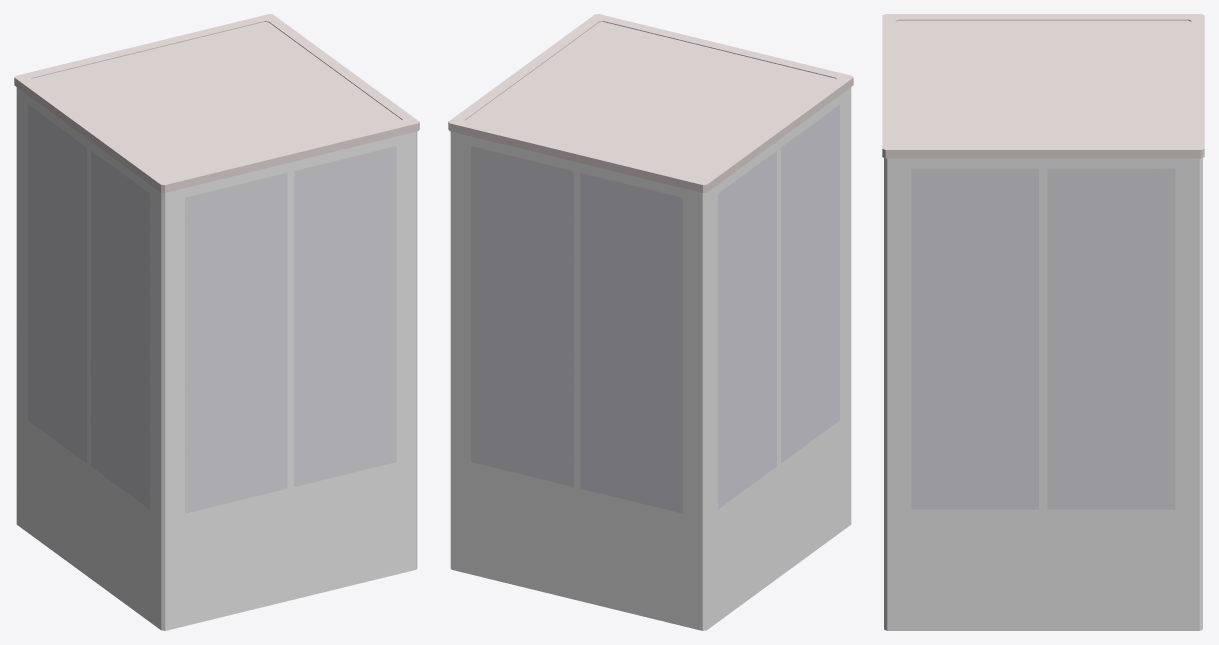
The model's file is B_Building.fbx.
The picture shows the model from 3 angles, left to right: view 1: azimuth 30°, elevation 25°; view 2: azimuth 150°, elevation 25°; view 3: azimuth 270°, elevation 25°; orthographic projection. The views are drawn at different scales.
Visible parts, largest first — view 1: polySurface3, polySurface6, polySurface7, polySurface2, polySurface4, polySurface1, polySurface5; view 2: polySurface3, polySurface6, polySurface7, polySurface2, polySurface4, polySurface1, polySurface5; view 3: polySurface2, polySurface4, polySurface5, polySurface3, polySurface6.
Part boxes in pixels (<box>): polySurface3: <box>14,44,350,327</box>; polySurface6: <box>16,222,417,517</box>; polySurface7: <box>16,315,233,587</box>; polySurface2: <box>234,335,417,599</box>; polySurface4: <box>147,14,419,228</box>; polySurface1: <box>16,482,294,630</box>; polySurface5: <box>351,193,417,317</box>; polySurface3: <box>517,44,853,327</box>; polySurface6: <box>450,222,851,517</box>; polySurface7: <box>634,315,851,587</box>; polySurface2: <box>450,335,633,599</box>; polySurface4: <box>448,14,720,228</box>; polySurface1: <box>573,482,851,630</box>; polySurface5: <box>450,193,516,317</box>; polySurface2: <box>884,378,1202,630</box>; polySurface4: <box>882,84,1204,225</box>; polySurface5: <box>884,225,1202,362</box>; polySurface3: <box>882,14,1204,85</box>; polySurface6: <box>884,357,1202,379</box>.
Bounding box in the file's own units: 257 × 423 × 257.
